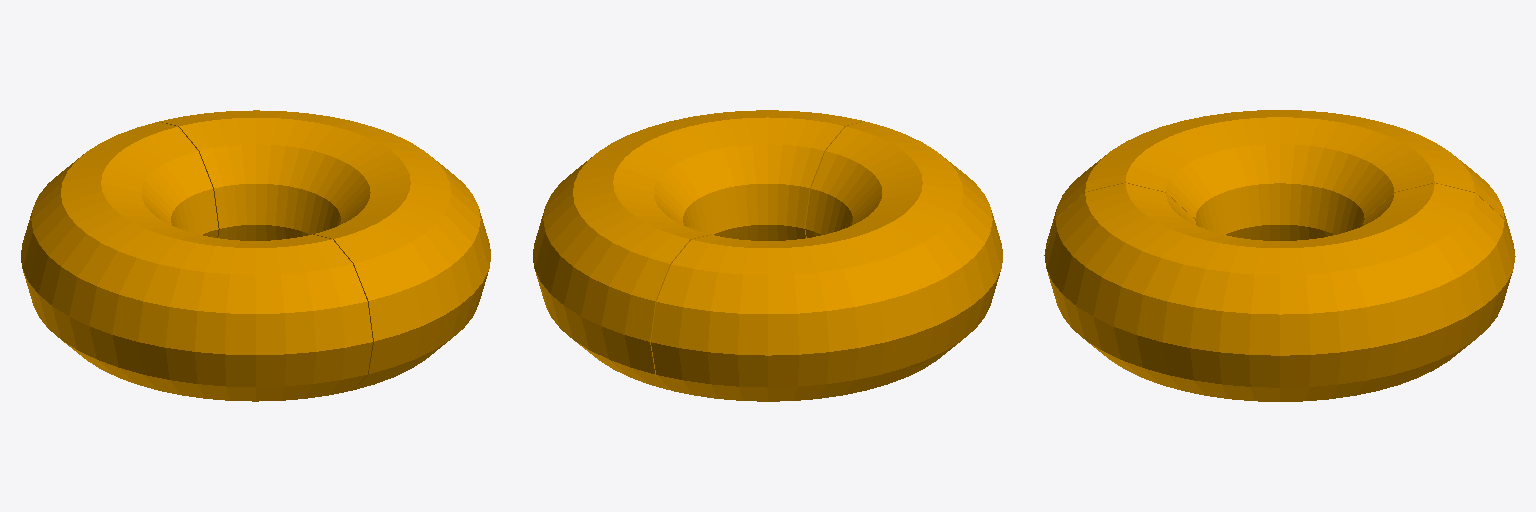
robot.urdf — donuts:
<?xml version="0.0" ?>
<robot name="donuts">
  <link name="baseLink">
    <contact>
      <lateral_friction value="1.0"/>
      <rolling_friction value="0.0"/>
      <contact_cfm value="0.0"/>
      <contact_erp value="1.0"/>
    </contact>
    <inertial>
      <origin rpy="1.57 0 0" xyz="0.0 0.0 0.04"/>
       <mass value=".1"/>
       <inertia ixx="1" ixy="0" ixz="0" iyy="1" iyz="0" izz="1"/>
    </inertial>
    <visual>
      <origin rpy="1.57 0 0" xyz="0 0 0.04"/>
      <geometry>
        <mesh filename="meshes/donuts/donuts.obj" scale="0.1 0.1 0.1"/>
      </geometry>

    </visual>
    <collision>
      <origin rpy="1.57 0 0" xyz="0 0 0.04"/>
      <geometry>
	 	<mesh filename="meshes/donuts/donuts.obj" scale="0.1 0.1 0.1"/>
      </geometry>
    </collision>
  </link>
</robot>

--- What the picture shows (computed from the rendered views, not written in the file) ---
The picture shows the robot from 3 angles, left to right: view 1: azimuth 30°, elevation 25°; view 2: azimuth 150°, elevation 25°; view 3: azimuth 270°, elevation 25°; orthographic projection.
Model donuts with 1 links and 0 joints (none), rooted at baseLink, posed all joints at 0.
Links seen in each view (by area): view 1: baseLink; view 2: baseLink; view 3: baseLink.
Link boxes in pixels (x1,y1,x2,y2): baseLink: (21, 110, 490, 401); baseLink: (533, 110, 1002, 401); baseLink: (1044, 110, 1515, 401).
Bounding box of the posed robot: 0.2045 × 0.204 × 0.0701 m (x, y, z).
Meshes: 1 distinct files referenced, 1 mesh visuals loaded (1 OBJ).